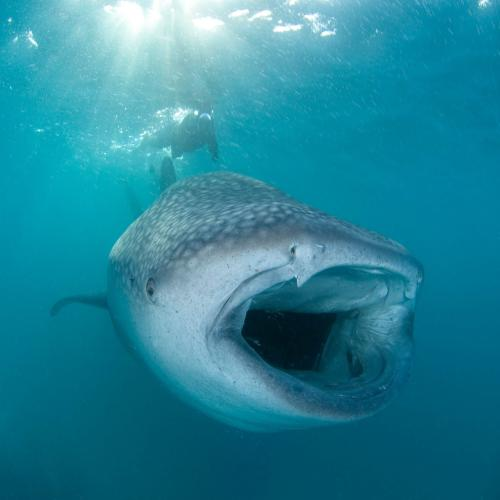shark-endangered: (48, 157, 426, 434)
